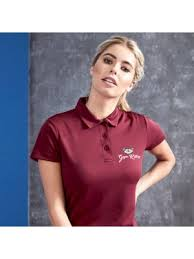S_polo shirt: (34, 98, 167, 226)
